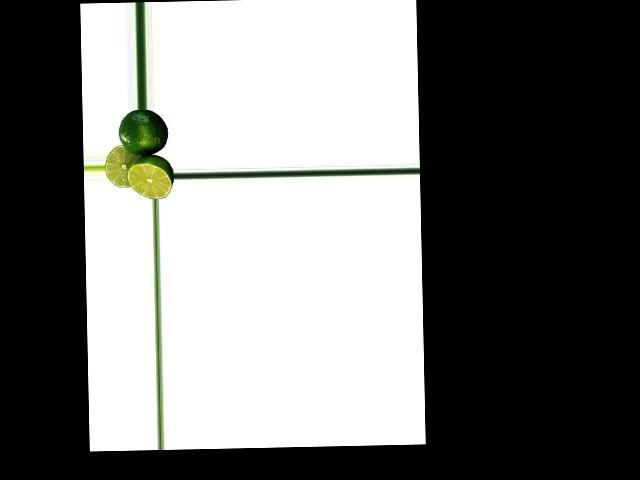lemon: (119, 109, 166, 158)
